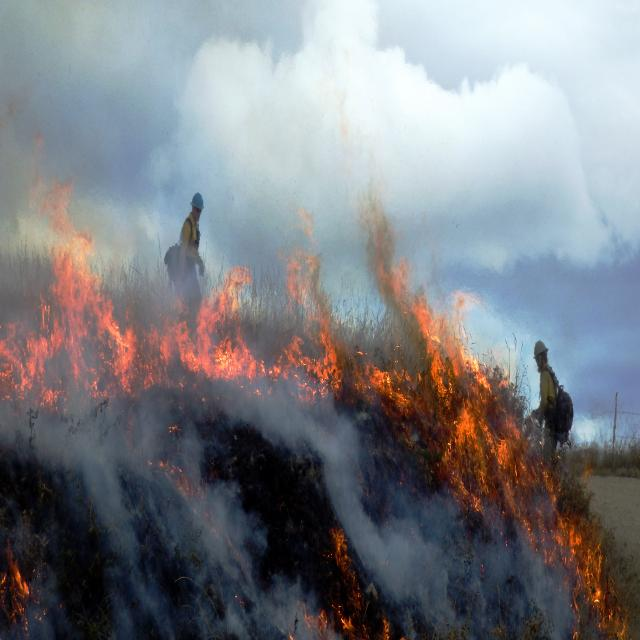api: (413, 280, 634, 640), (175, 262, 408, 440), (1, 251, 165, 418), (291, 511, 393, 640), (1, 532, 34, 622)
asap: (2, 365, 322, 639), (211, 365, 440, 612), (397, 471, 583, 636)
